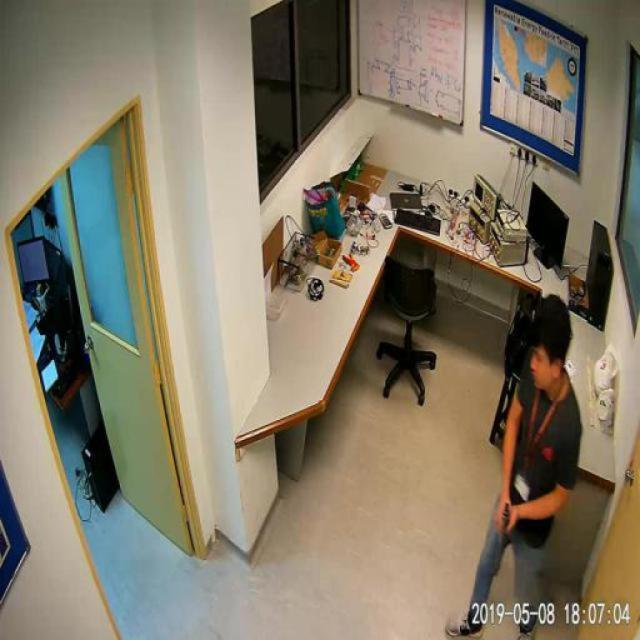pistol: (491, 498, 511, 574)
